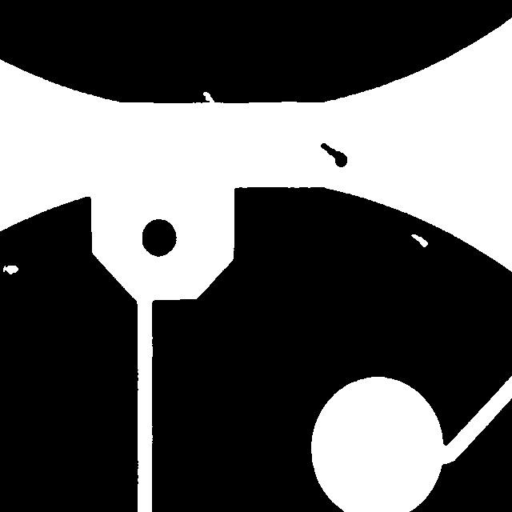copper: (313, 135, 354, 174)
mousebite: (195, 84, 222, 113)
pin-hole: (403, 226, 435, 254), (0, 258, 26, 282)
